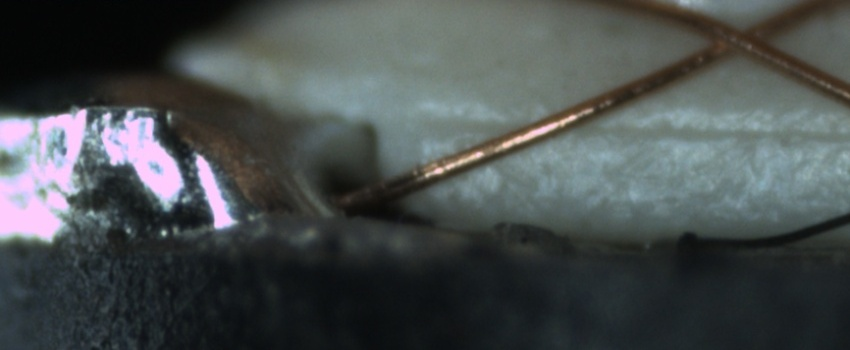CL: (691, 5, 790, 67)
DL: (432, 101, 850, 166)
